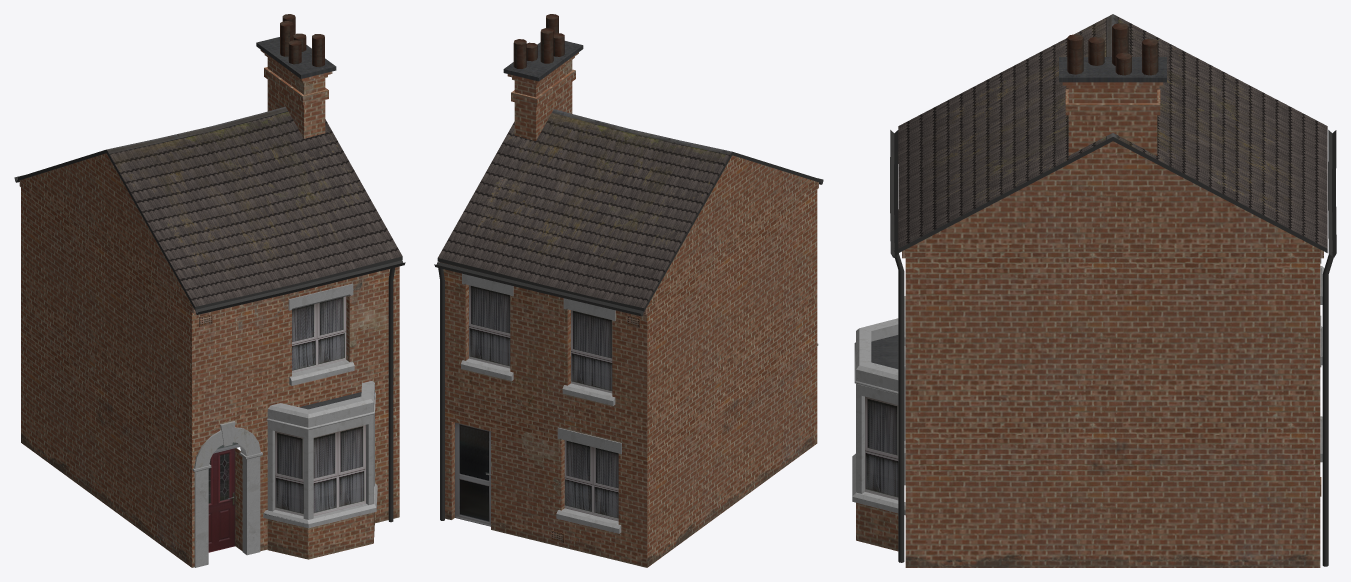
File: ukterracedvictorian8b.FBX
3 renders of one model, left to right at view 1: azimuth 30°, elevation 25°; view 2: azimuth 150°, elevation 25°; view 3: azimuth 270°, elevation 25°, orthographic. The views are drawn at different scales.
Parts seen in each view (by area): view 1: Object003; view 2: Object003; view 3: Object003.
Part boxes in pixels (left/top/right/bottom): Object003: left=14, top=14, right=405, bottom=567; Object003: left=434, top=14, right=823, bottom=567; Object003: left=852, top=14, right=1336, bottom=567.
Size of the model in its own units: 560 by 1122 by 935.
